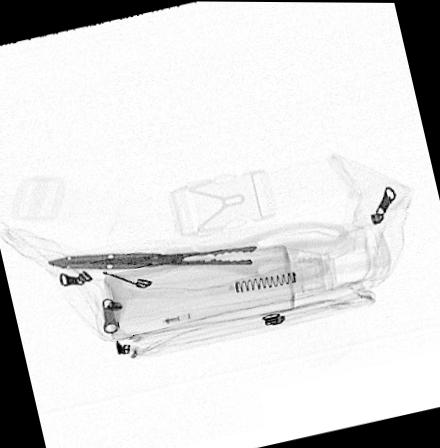Scissors: (40, 222, 347, 286)
